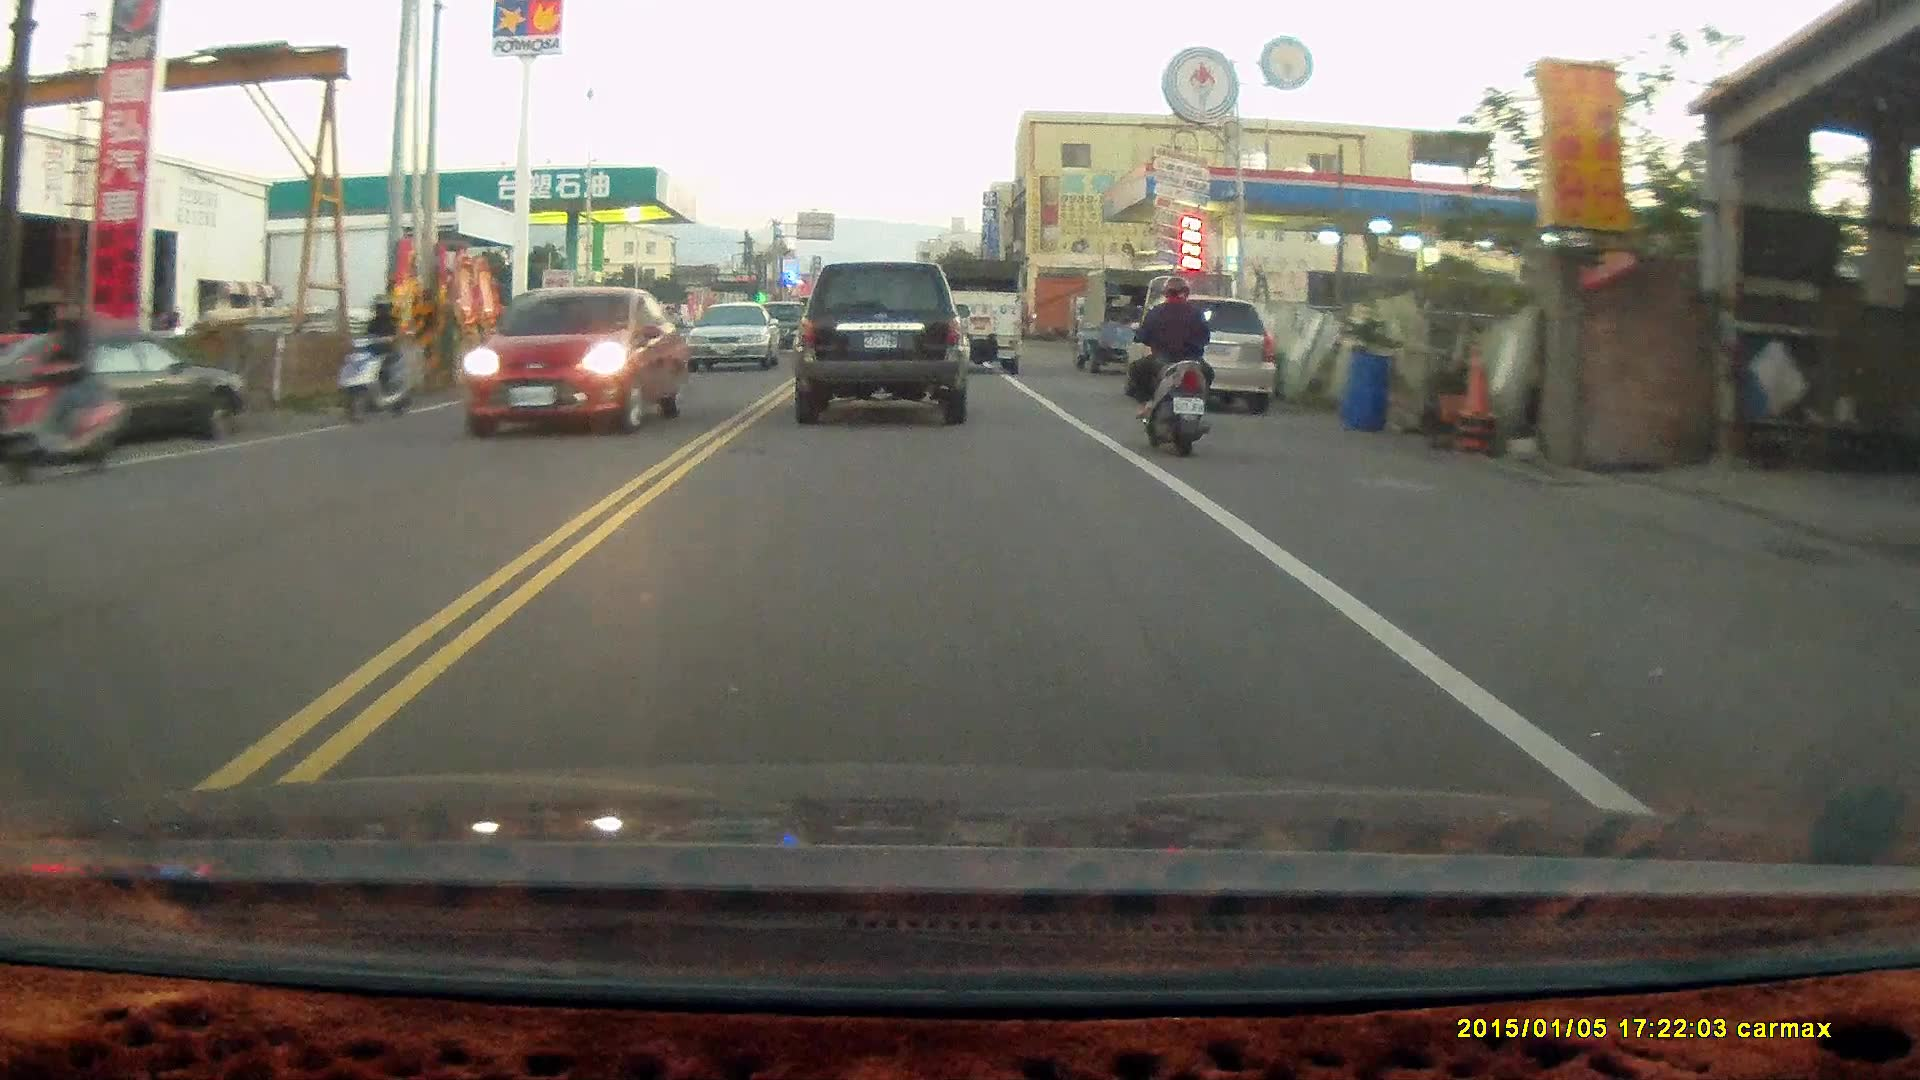rider: (0, 301, 135, 487), (1123, 267, 1219, 451), (333, 292, 423, 426)
vehicle: (3, 327, 261, 458), (463, 288, 680, 437), (792, 258, 969, 424), (1124, 295, 1284, 419), (473, 283, 632, 403), (930, 253, 1020, 372), (688, 298, 783, 369)
